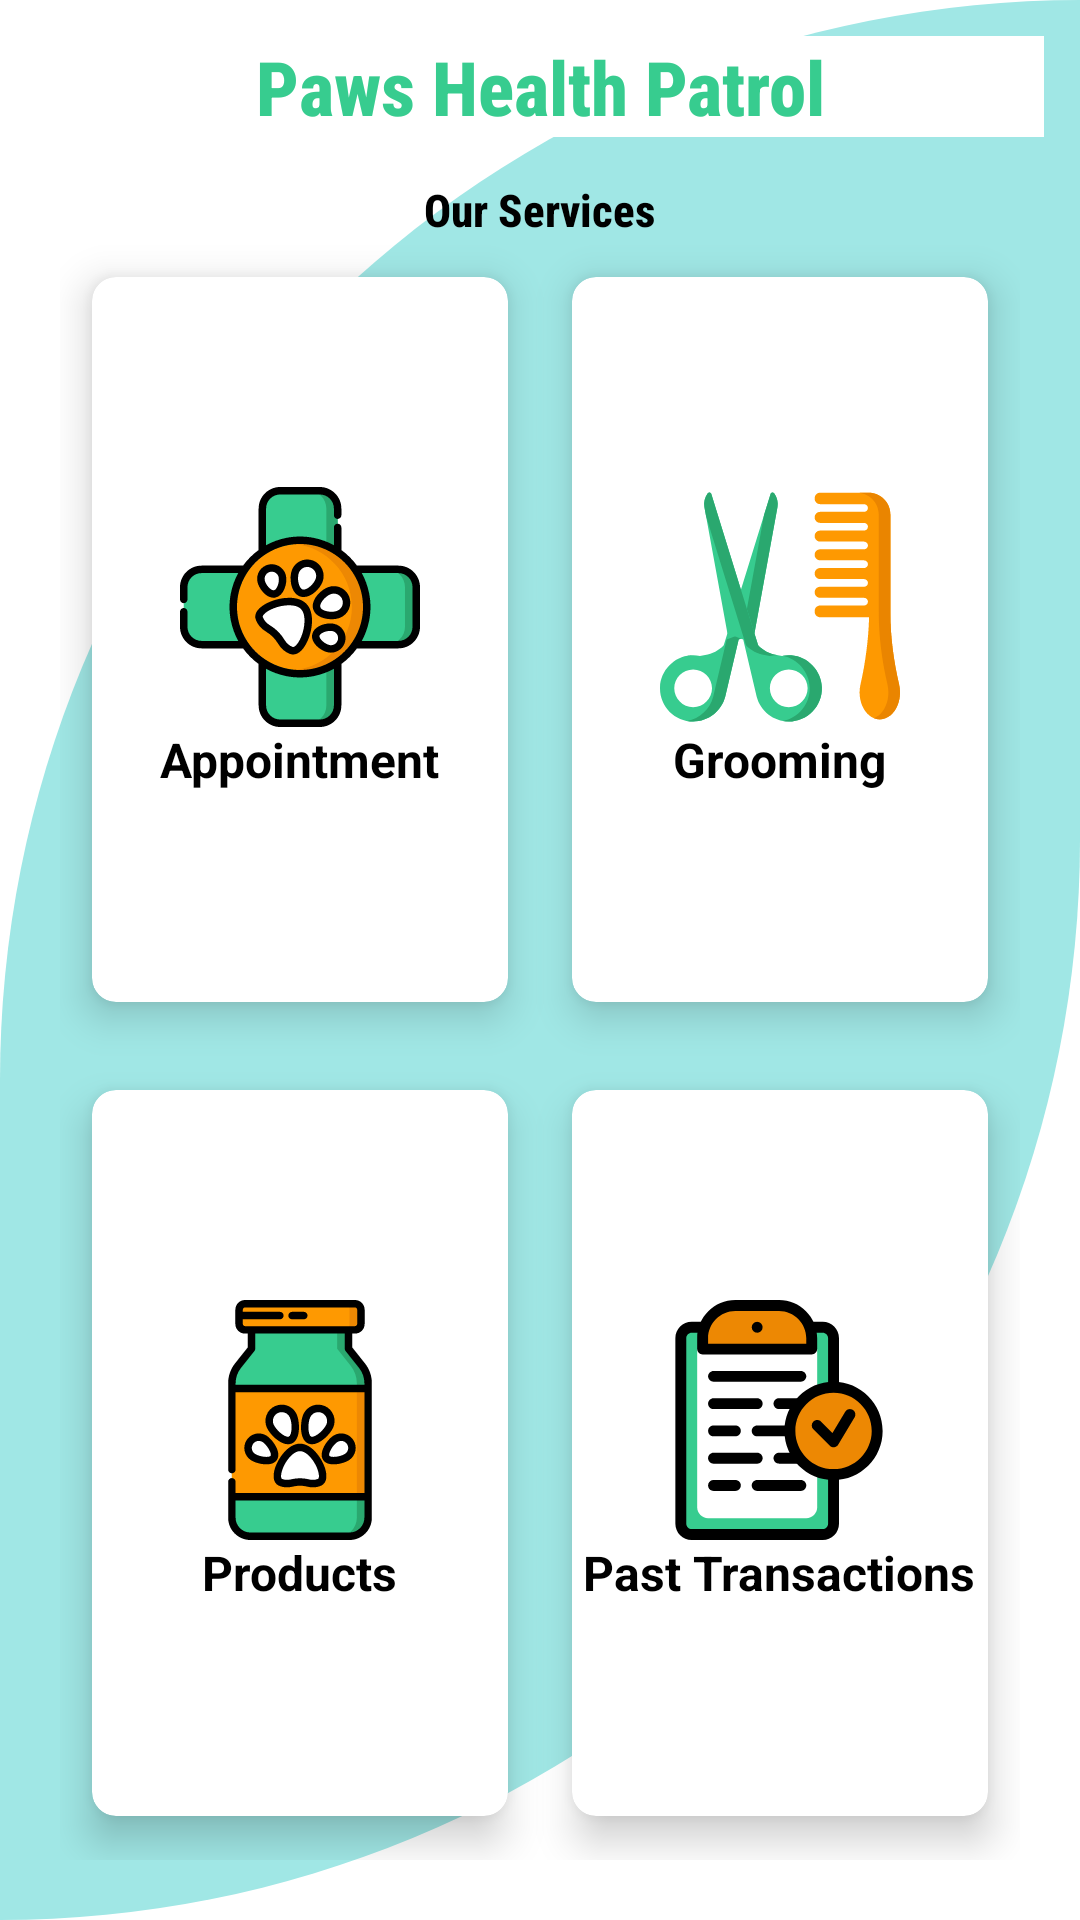

Icon bounding boxes for this 1080×1920 phone screenshot, format (x1, y1, x2, y2):
medical history doctor: (675, 1300, 883, 1540)
medicine veterinarian: (228, 1300, 372, 1540)
veterinarian: (180, 487, 420, 727)
